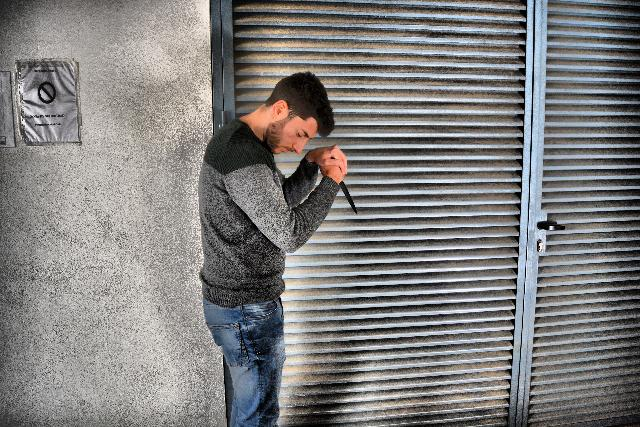knife: (334, 172, 360, 218)
